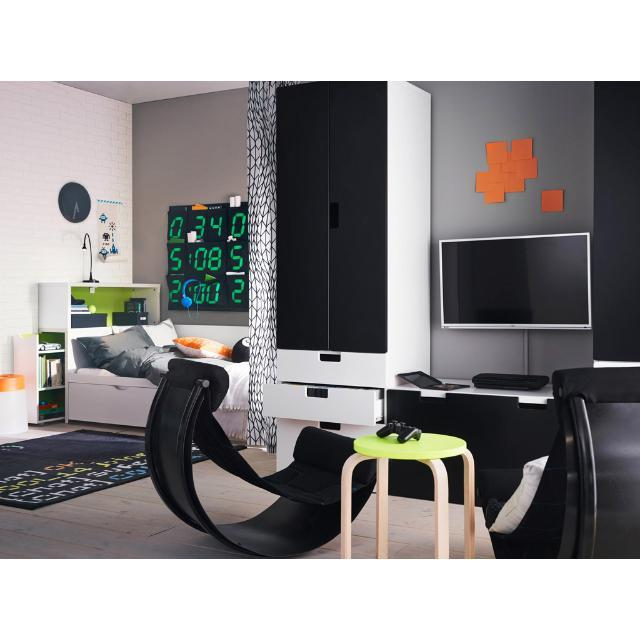bed: (14, 282, 250, 439)
clock: (59, 182, 91, 222)
dresser: (264, 81, 430, 464)
rug: (0, 430, 149, 510)
stool: (341, 434, 475, 558)
